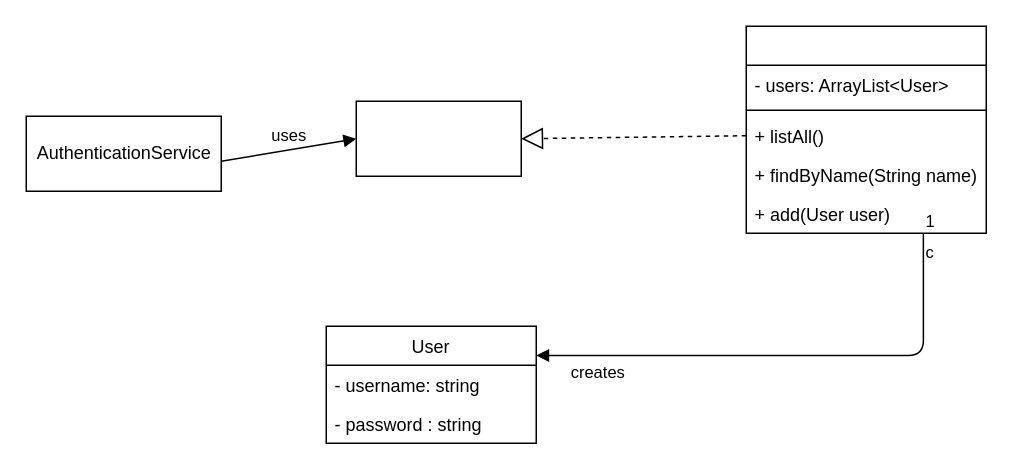
Some shapes in this 1013 by 474 pixel diagram are drawn without their labels. The box of each missing label's shape, as (x1, y1, x2, y2) in pixels:
Classname: (745, 25, 986, 233)
«interface» UserDao: (355, 100, 521, 176)
